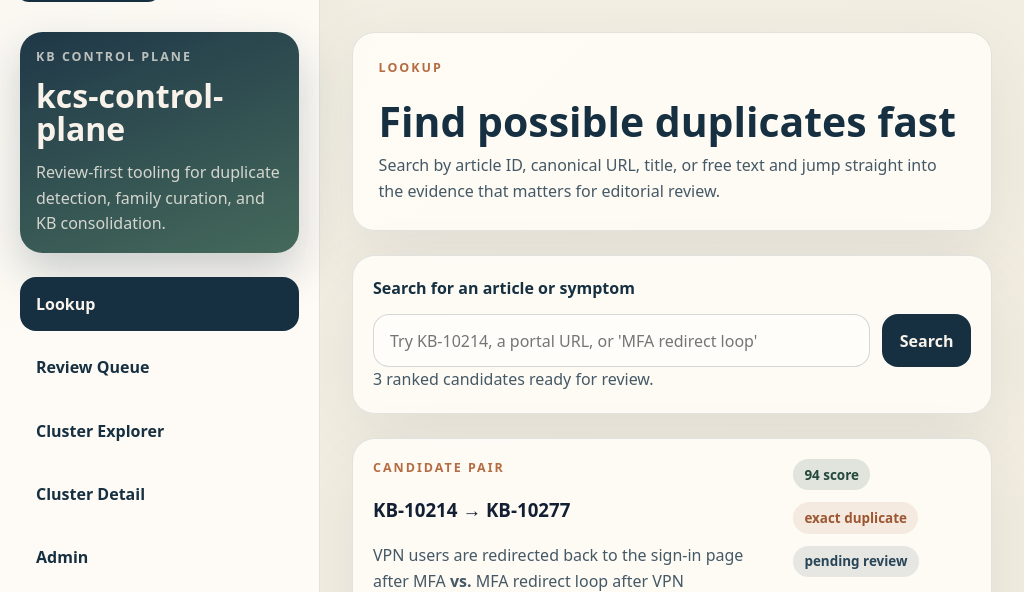
Scenario: workflow-first frontend › renders each main page with accessible headings
The width and height of the screenshot is (1024, 592).
Click the button "Review Queue". click: (93, 367)
box: [20,340,299,395]
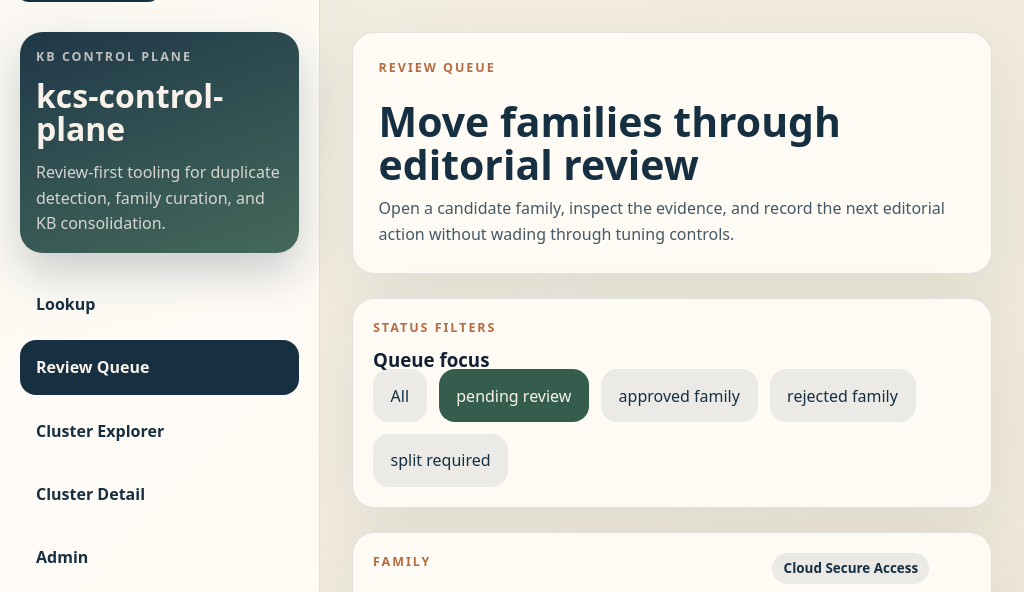
Now the heading "Move families through editorial review" is shown, box [379,93,841,192]
Click the button "Cluster Explorer". click: (160, 431)
box: [20,403,299,458]
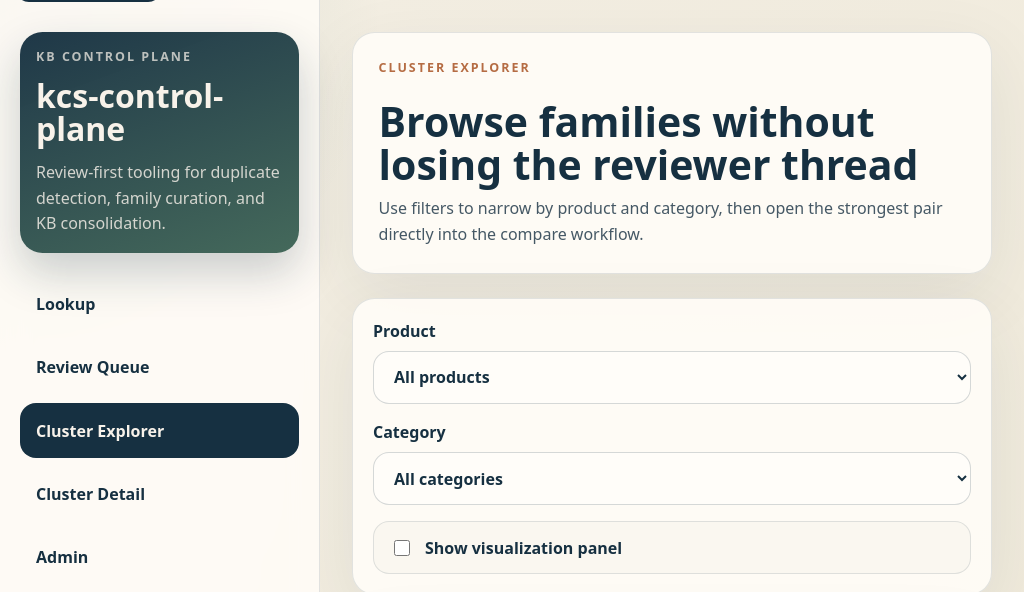
Now the heading "Browse families without losing the reviewer thread" is shown, box [379,100,965,186]
Click the button "Cluster Detail". click: (91, 494)
box: [20,467,299,521]
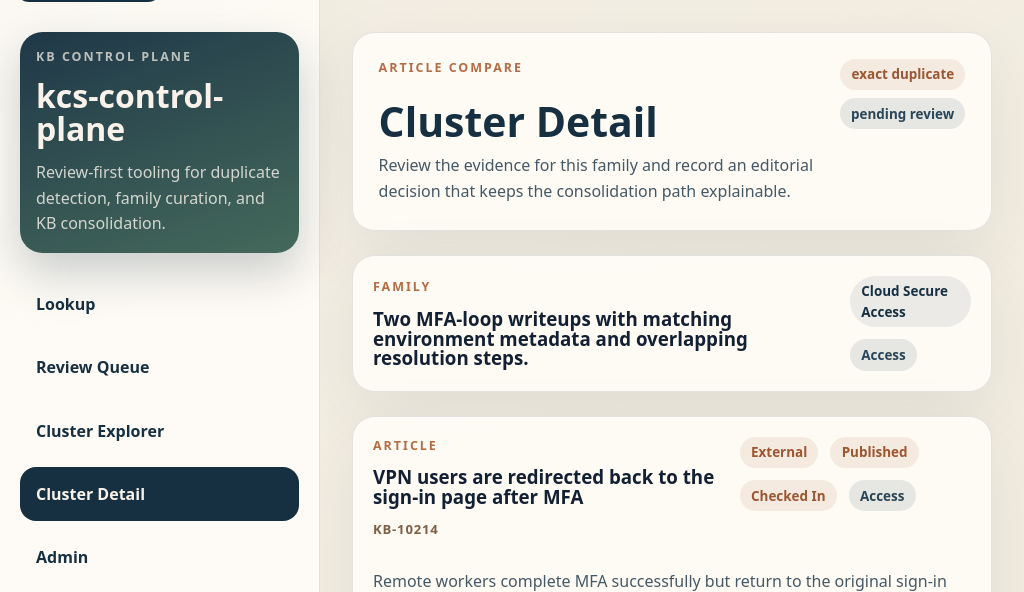
Now the heading "Cluster Detail" is shown, box [379,93,658,149]
Click the button "Admin". click: (62, 557)
box: [20,530,299,584]
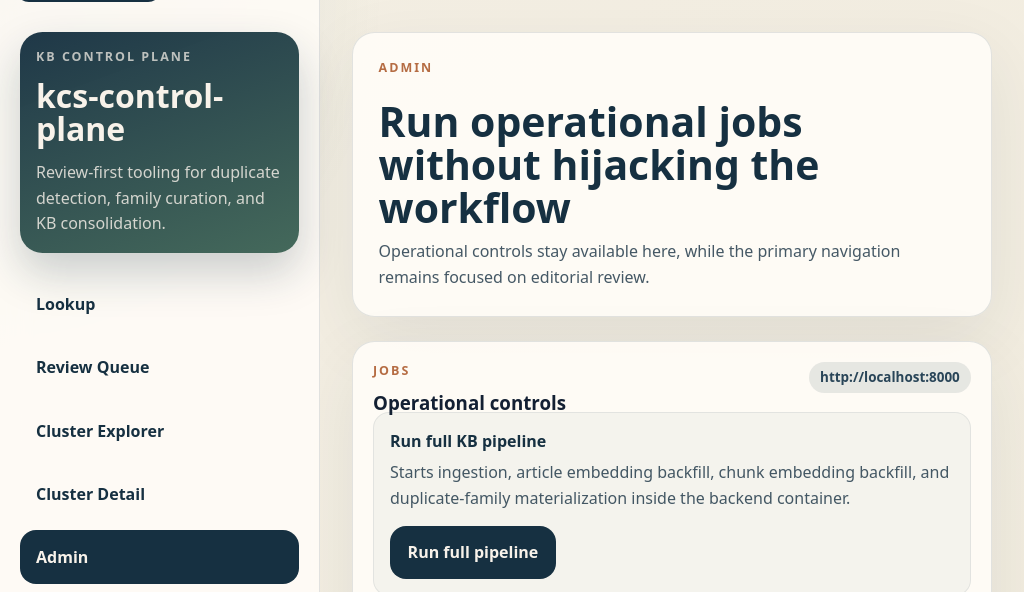
Now the heading "Run operational jobs without hijacking the workflow" is shown, box [379,93,819,235]
